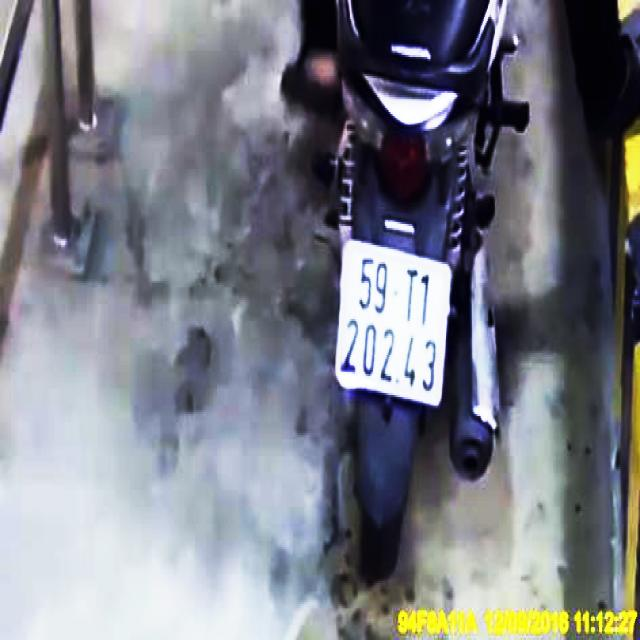license_plate: (335, 240, 455, 414)
